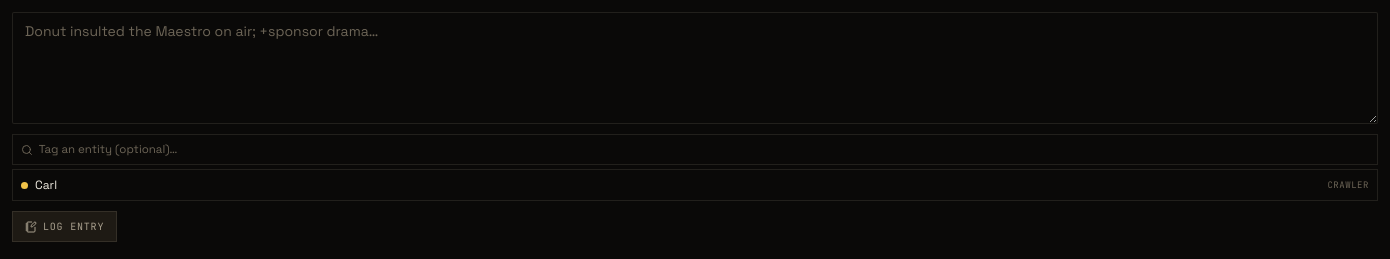
it: SessionLogComposer › shows a returned error and does not reset the form
This screenshot has width=1390, height=259.
In the text box named "Log entry": (695, 68) [12,12,1378,124], type "x"
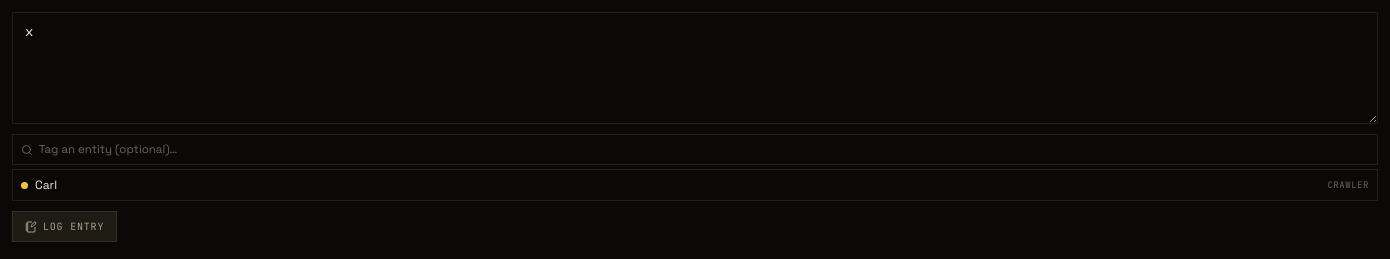
Click the button "Log entry": (65, 227) [12,211,117,242]
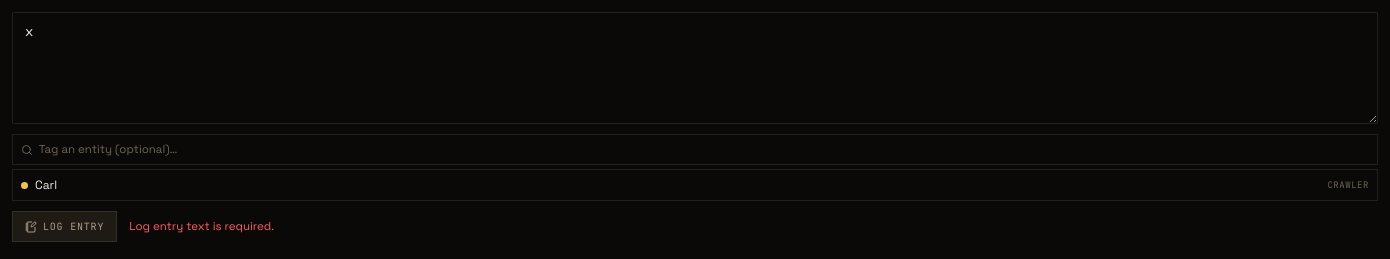
Now the message reads "Log entry text is required.", box [129,219,274,233]
